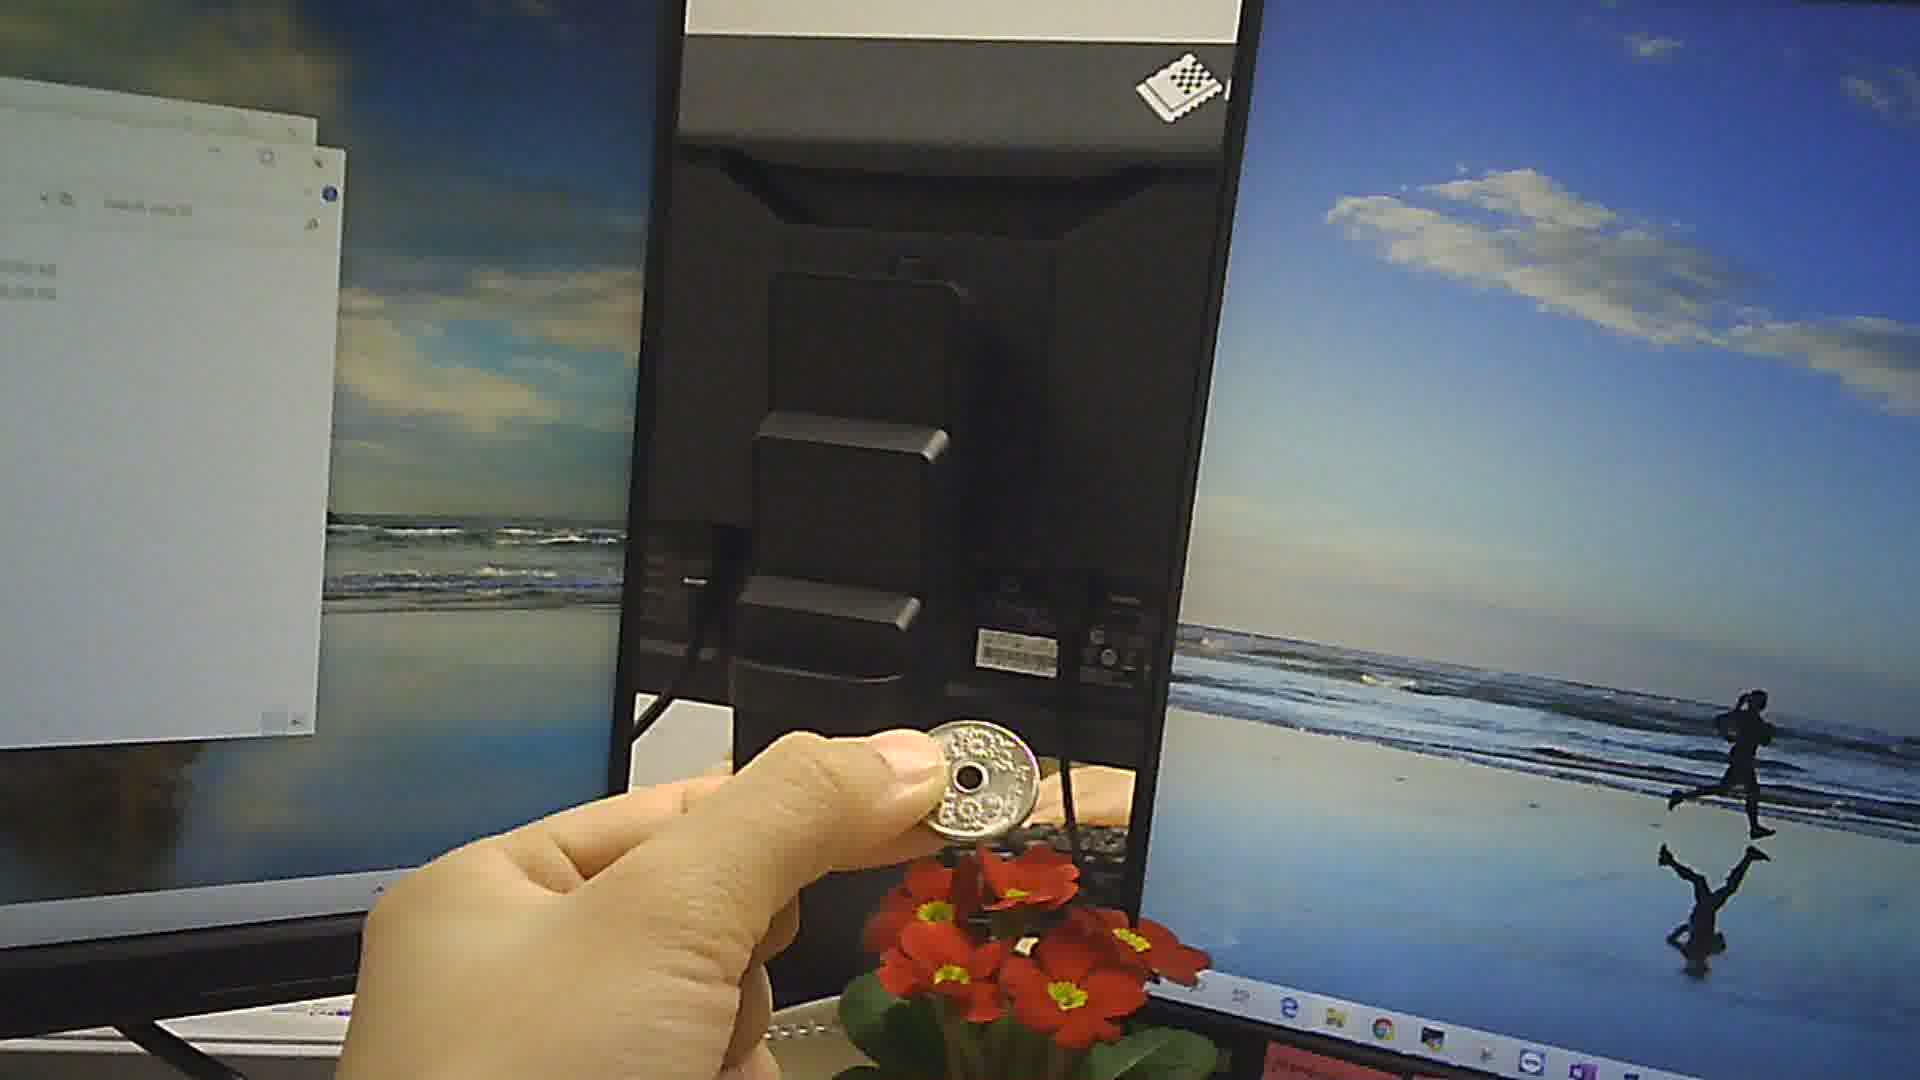50 Yen: (905, 712, 1047, 847)
